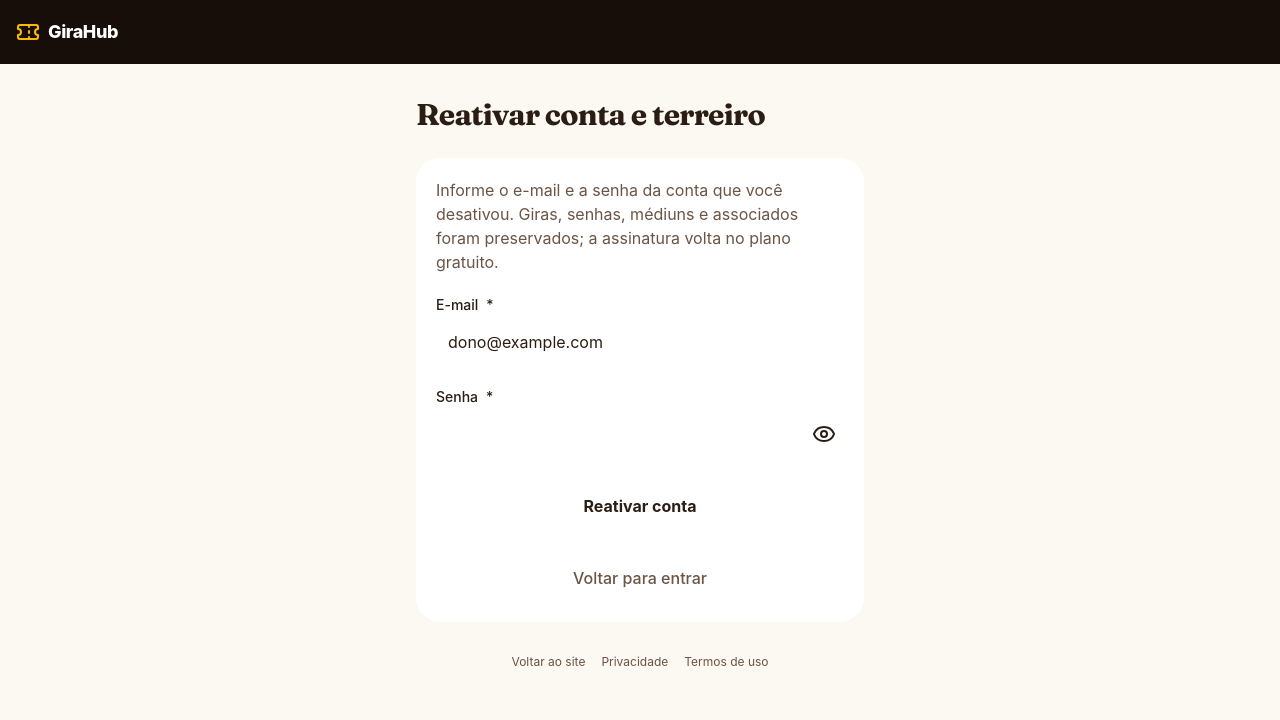
Scenario: Reativar conta › senha errada mostra o erro em vez de "Conta reativada"
The image size is (1280, 720).
Check: the field showing "dono@example.com" is shown, box [436,318,844,366]
Type "errada" into the password field labelled "Senha *".
click(640, 434); type("errada")  # box [436,410,844,458]
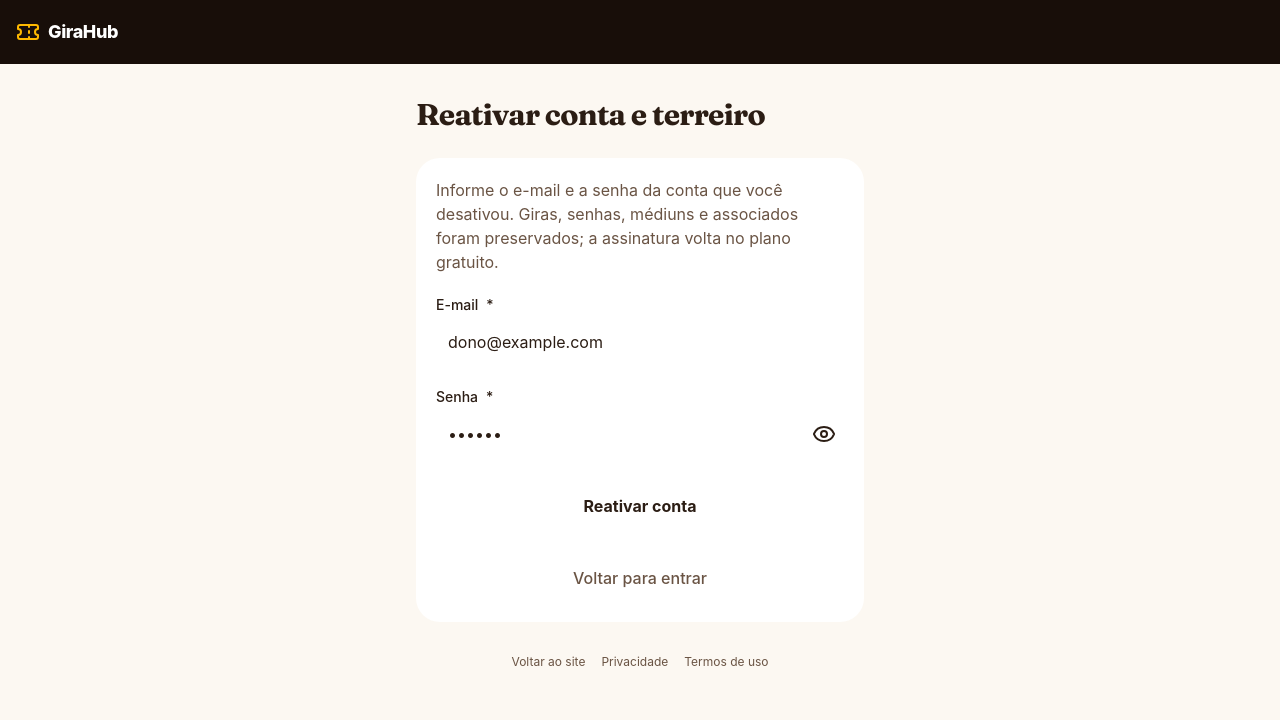
Click the button "Reativar conta".
click(640, 506)  # box [436,482,844,530]
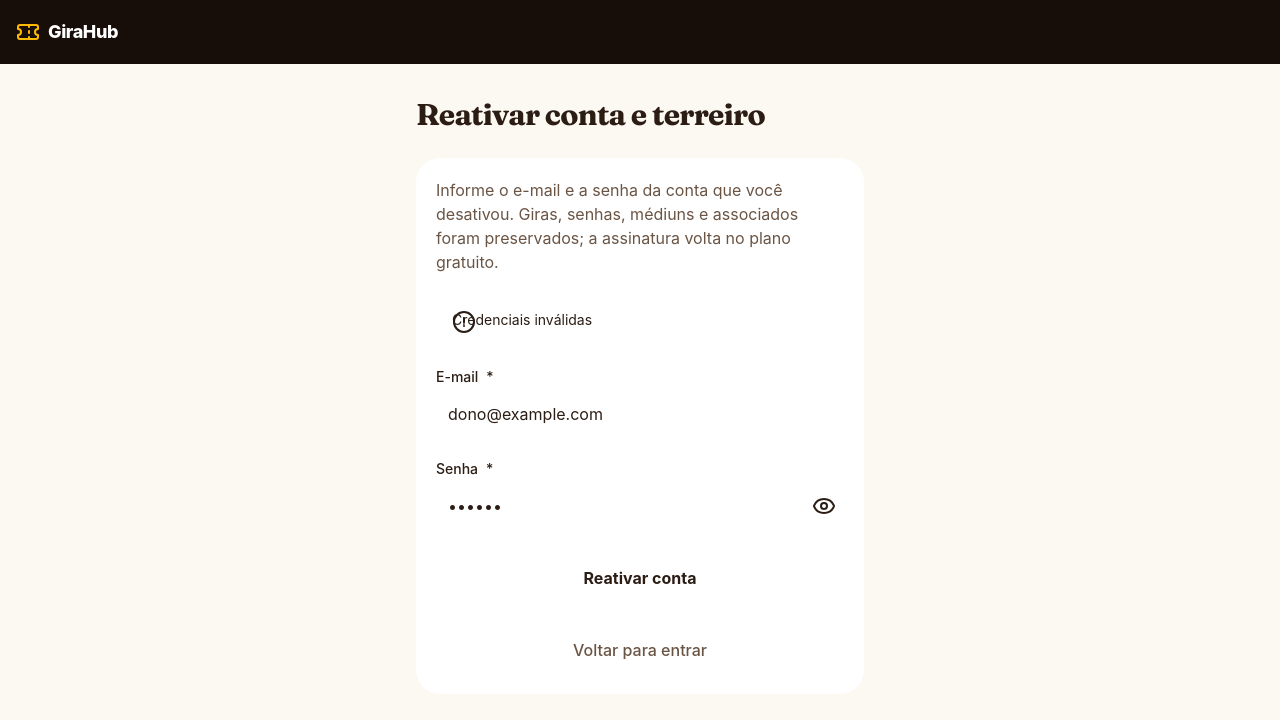
Check: the text "Credenciais inválidas" is shown, box [452,310,592,328]
